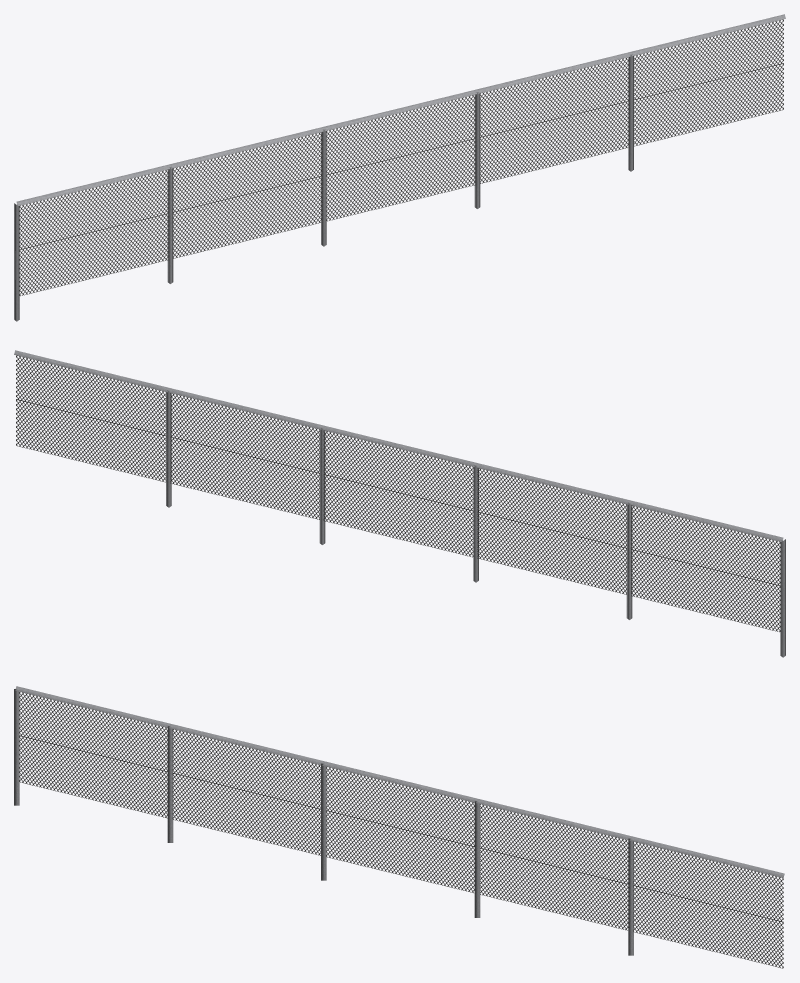
The model's file is fence-tall-chainlink-1rail-5s-cbj_LOD02.gltf.
3 views of the same model, one above another, from view 1: azimuth 30°, elevation 25°; view 2: azimuth 150°, elevation 25°; view 3: azimuth 330°, elevation 25° (orthographic).
Parts seen in each view (by area): view 1: cube02; view 2: cube02; view 3: cube02.
Part boxes in pixels (x1,y1,x2,y2): cube02: (14,14,785,321); cube02: (14,350,785,657); cube02: (14,686,784,968).
Size of what is drawn, in the model's own units: 15.53 by 2.29 by 0.0998.
